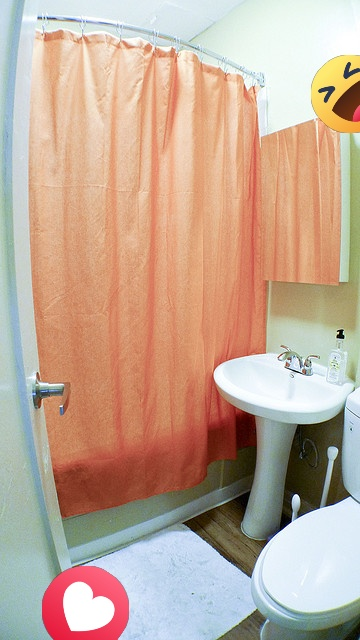haha: (311, 55, 360, 133)
love: (42, 566, 129, 640)
